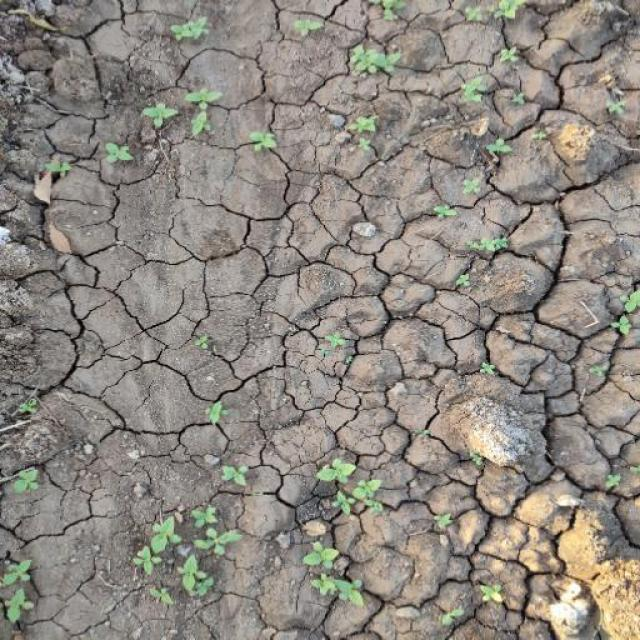crop: (438, 6, 540, 120), (328, 41, 392, 149), (304, 440, 390, 519), (429, 229, 529, 296), (292, 538, 372, 618), (431, 576, 519, 625), (186, 494, 244, 556), (126, 505, 180, 570), (2, 552, 42, 628), (182, 77, 228, 142), (82, 128, 140, 172), (172, 554, 216, 604), (155, 16, 224, 46), (6, 456, 52, 500), (128, 94, 182, 124)
